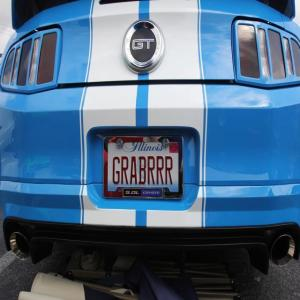Plate: (104, 136, 186, 199)
